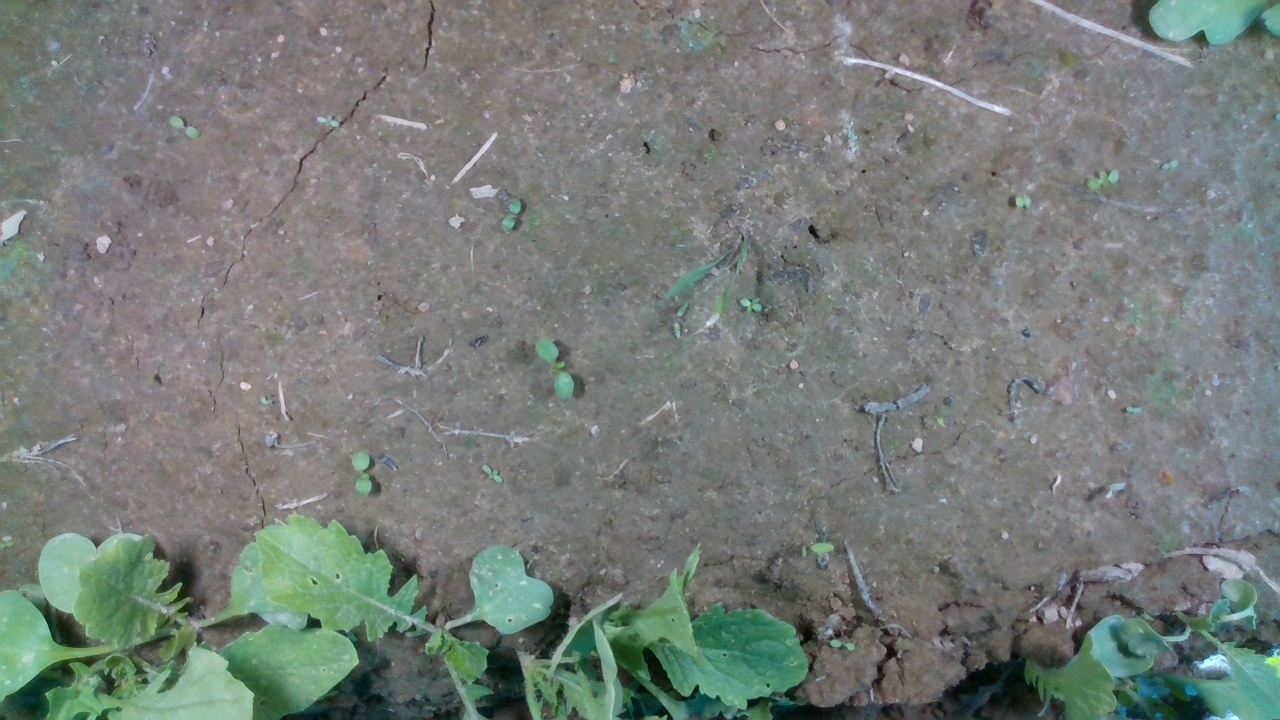weed: (533, 337, 576, 401), (347, 449, 375, 501), (499, 194, 524, 235), (166, 114, 202, 139), (1085, 166, 1119, 191), (670, 303, 689, 340), (480, 462, 504, 486), (737, 295, 763, 316), (314, 112, 342, 131), (1011, 190, 1031, 210), (1159, 158, 1181, 170)
